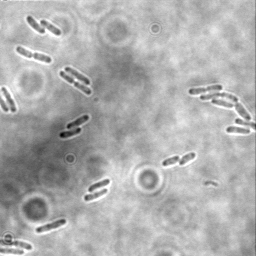Dividing: (59, 70, 92, 97), (16, 45, 53, 65), (1, 86, 18, 114), (0, 238, 33, 251)
Microcolony: (187, 83, 255, 136)
Rod: (64, 64, 92, 86), (36, 217, 68, 234), (40, 18, 63, 37), (25, 15, 46, 35), (66, 113, 90, 130), (83, 188, 109, 203), (88, 177, 111, 192), (58, 126, 83, 139), (178, 151, 197, 167), (161, 154, 180, 168), (0, 246, 26, 256)
